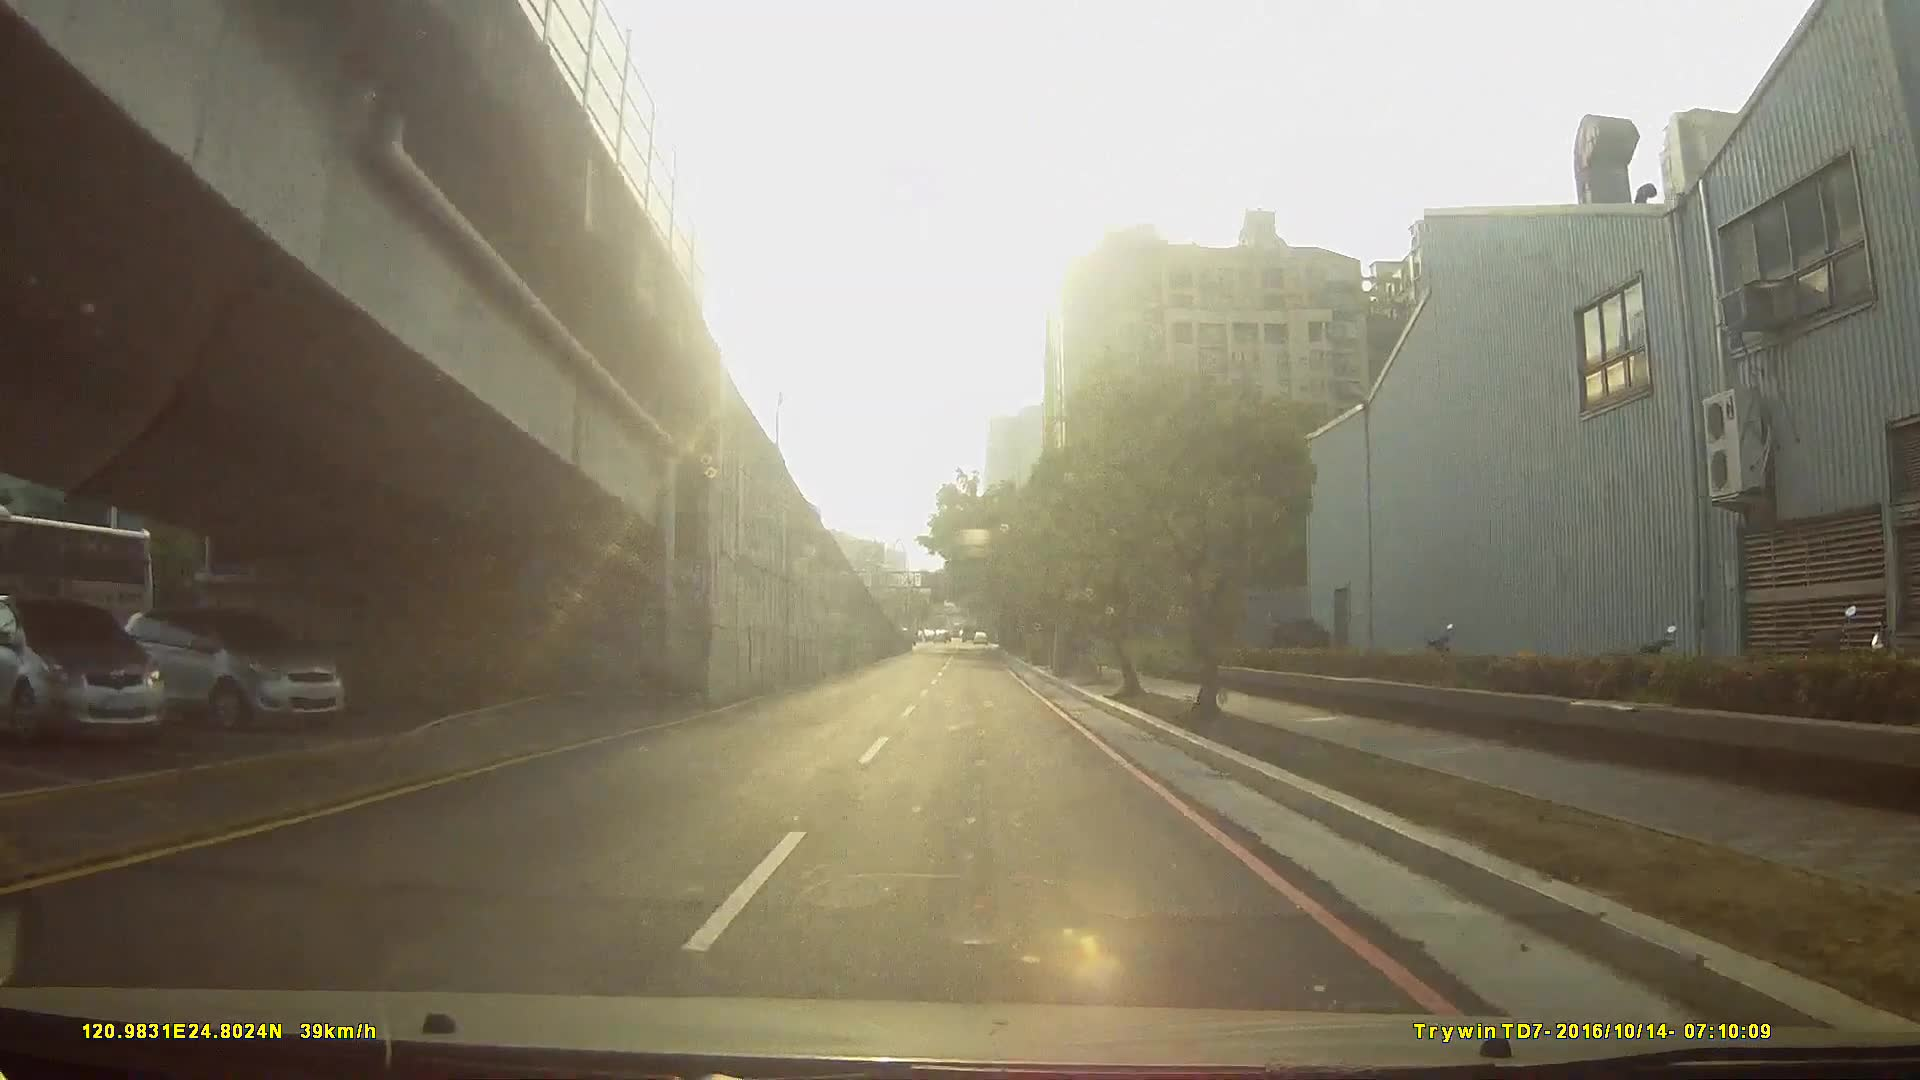vehicle: (98, 603, 355, 732), (1, 504, 165, 690), (1, 592, 171, 742)
